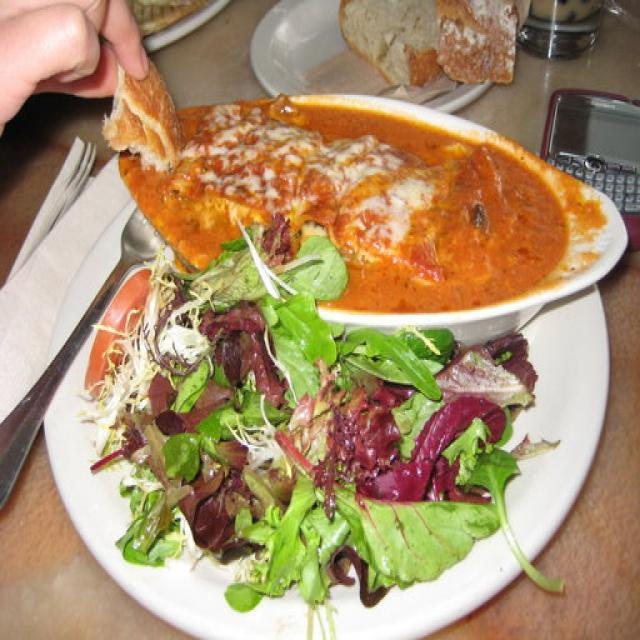Lasagna: (120, 78, 595, 270)
Sandwich: (104, 322, 505, 587)
